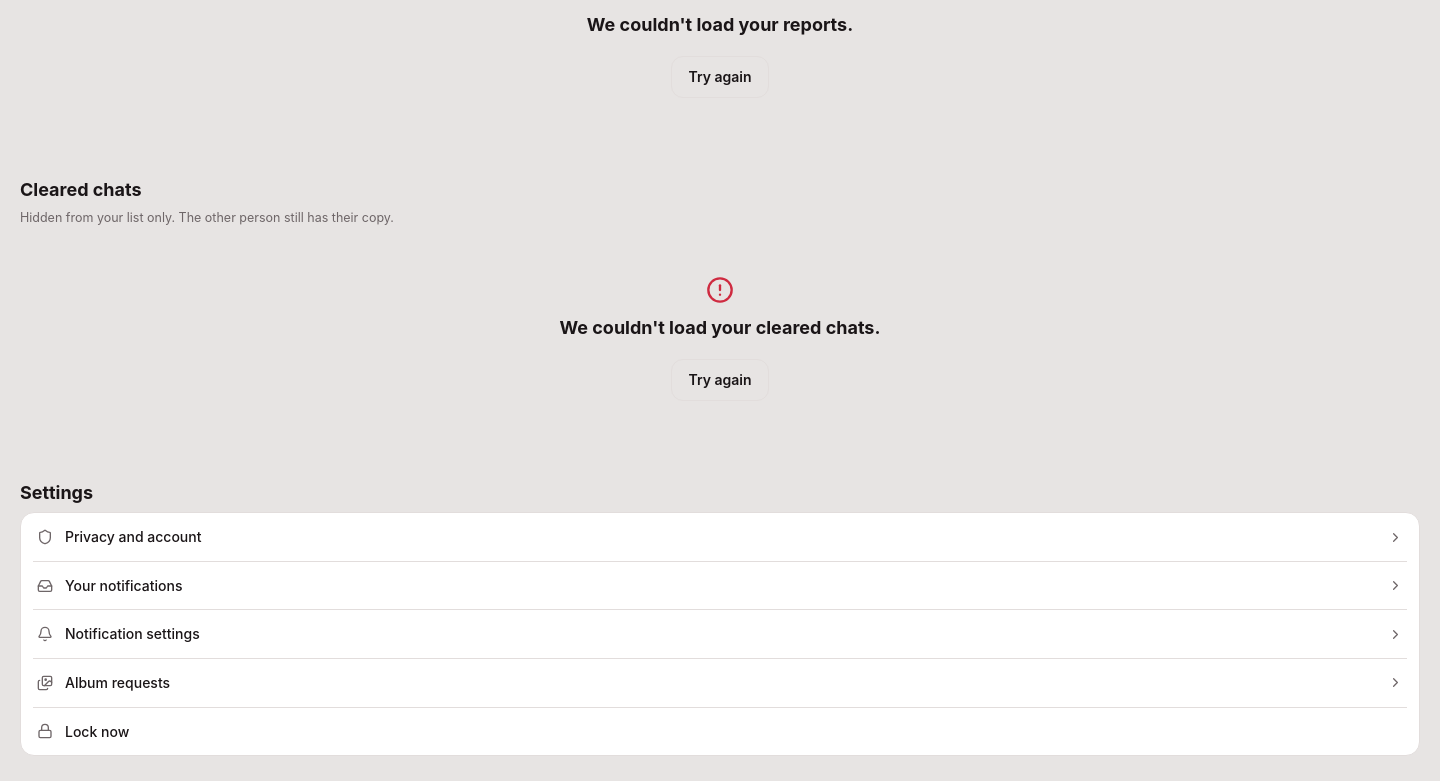
it: the You tab (T-9.8) › says which list didn't load, and tries that one again
The width and height of the screenshot is (1440, 781).
(page scrolled)
Check: the heading "We couldn't load your reports." is shown, box [587,13,853,36]
Click the button "Try again" below "We couldn't load your cleared chats.": (720, 380) [672,359,769,401]
(page scrolled)
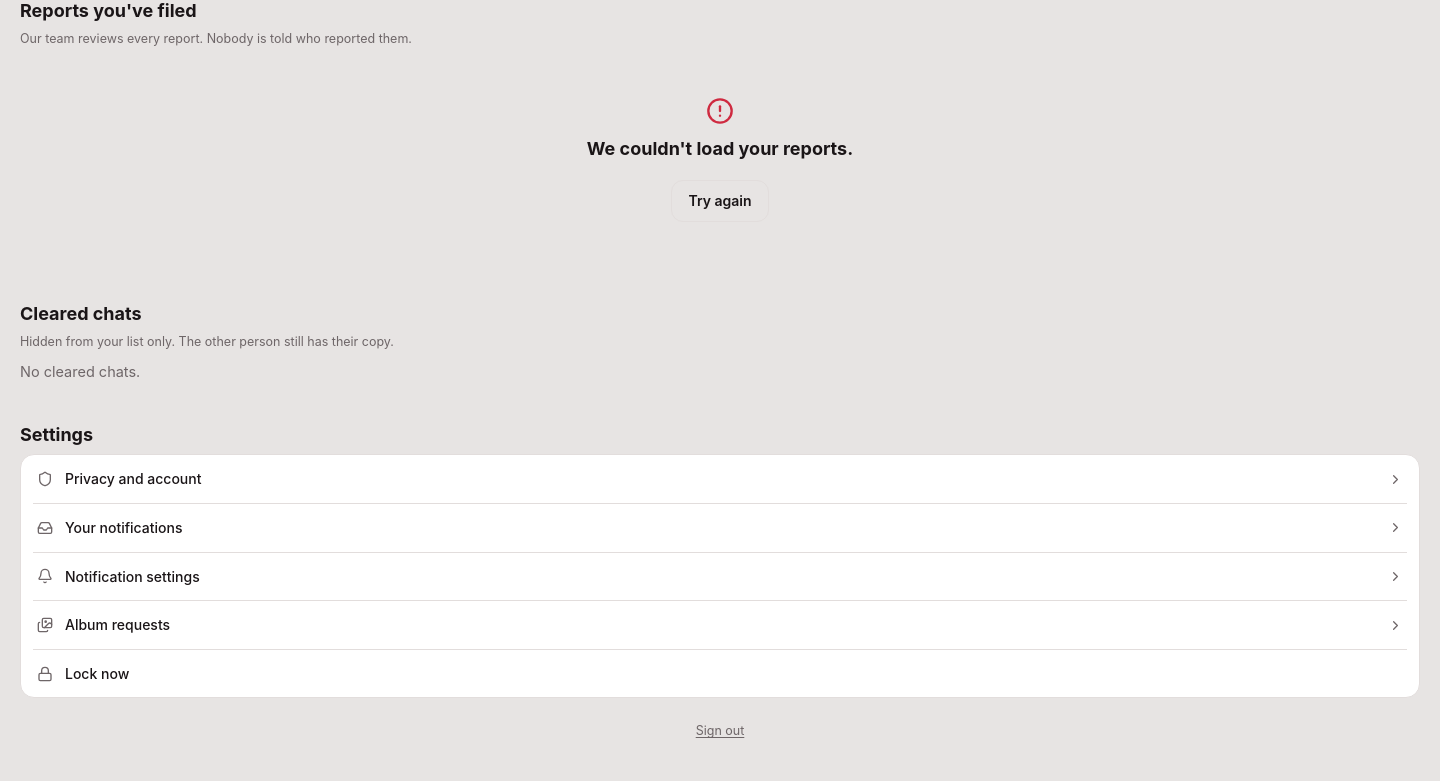
Check: the text "No cleared chats." is shown, box [20,363,140,380]
